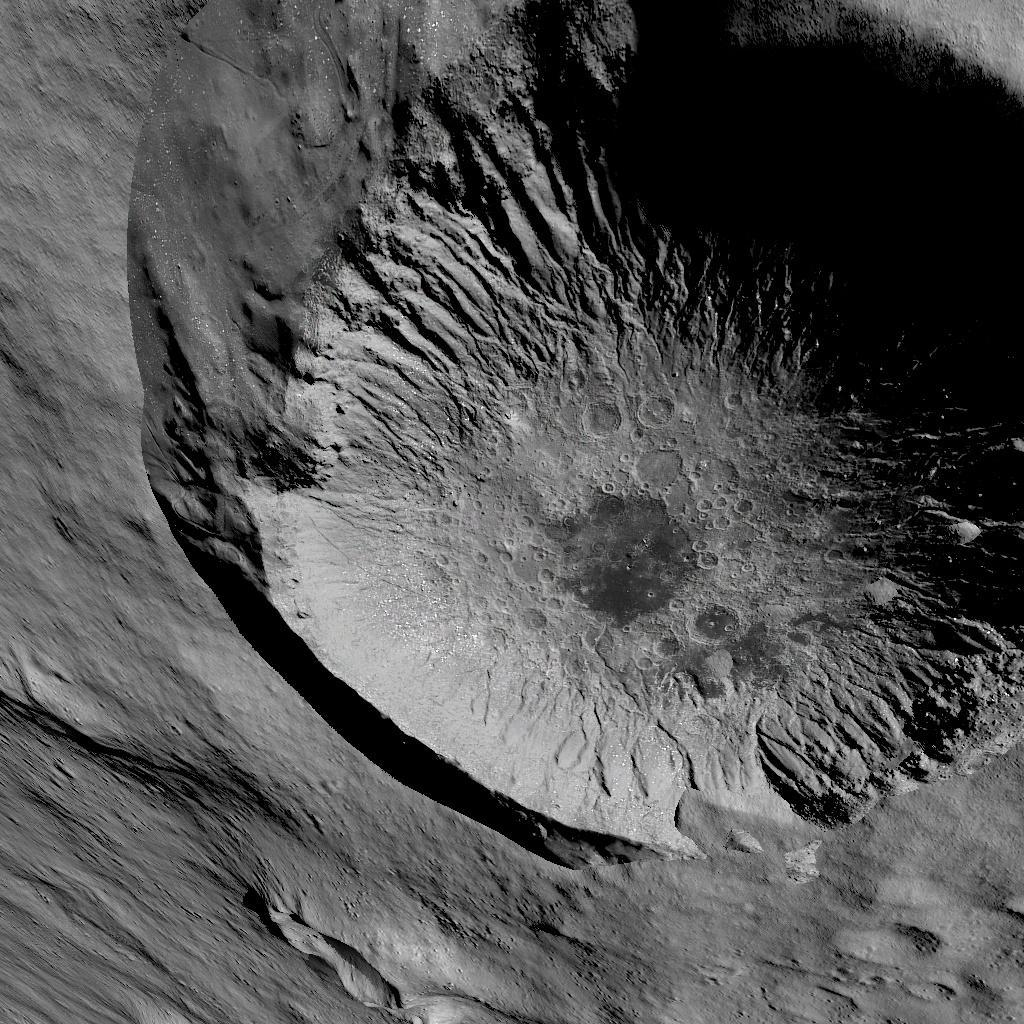Crater: (112, 2, 1023, 878), (230, 892, 416, 1012)
Plan surface: (480, 907, 1024, 1024)
